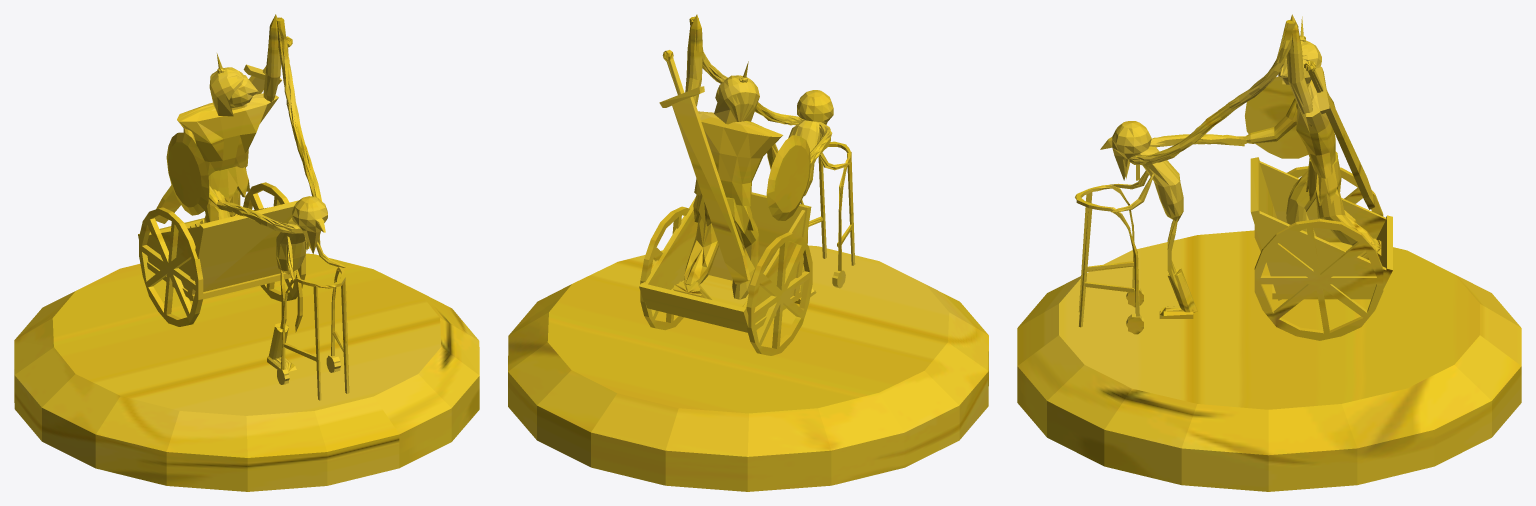
The model's file is Statue.glb.
3 views of the same model, side by side, from view 1: azimuth 30°, elevation 25°; view 2: azimuth 150°, elevation 25°; view 3: azimuth 270°, elevation 25° (orthographic). The views are drawn at different scales.
Parts seen in each view (by area): view 1: Statue; view 2: Statue; view 3: Statue.
Boxes of the visible parts, bbox=[...] form: Statue: bbox=[14, 14, 479, 491]; Statue: bbox=[508, 14, 988, 491]; Statue: bbox=[1017, 14, 1521, 491].
Size of the model in its own units: 474 by 399 by 467.
1 material, 1 textured.
